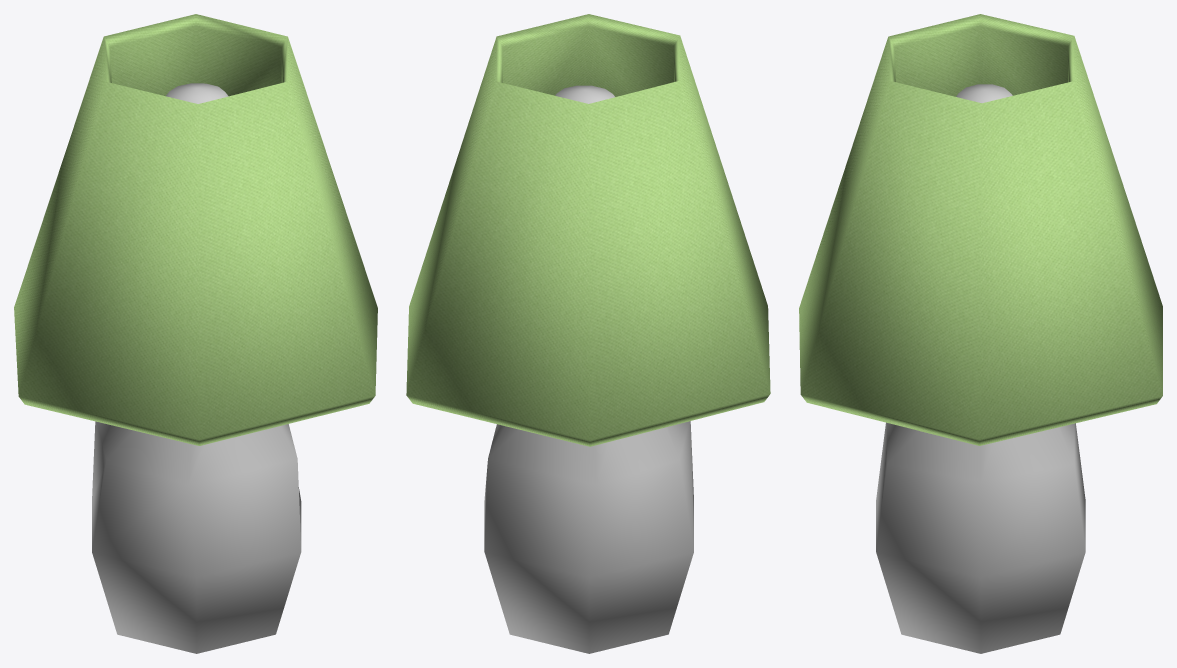
Rendered from Small_Lamp_B.FBX.
3 renders of one model, left to right at view 1: azimuth 30°, elevation 25°; view 2: azimuth 150°, elevation 25°; view 3: azimuth 270°, elevation 25°, orthographic.
Visible parts, largest first — view 1: Kid's Lamp; view 2: Kid's Lamp; view 3: Kid's Lamp.
Part boxes in pixels (bbox=[...]): Kid's Lamp: bbox=[14, 14, 377, 653]; Kid's Lamp: bbox=[406, 14, 770, 653]; Kid's Lamp: bbox=[799, 14, 1162, 653].
Bounding box in the file's own units: 68.11 × 100 × 59.49.
